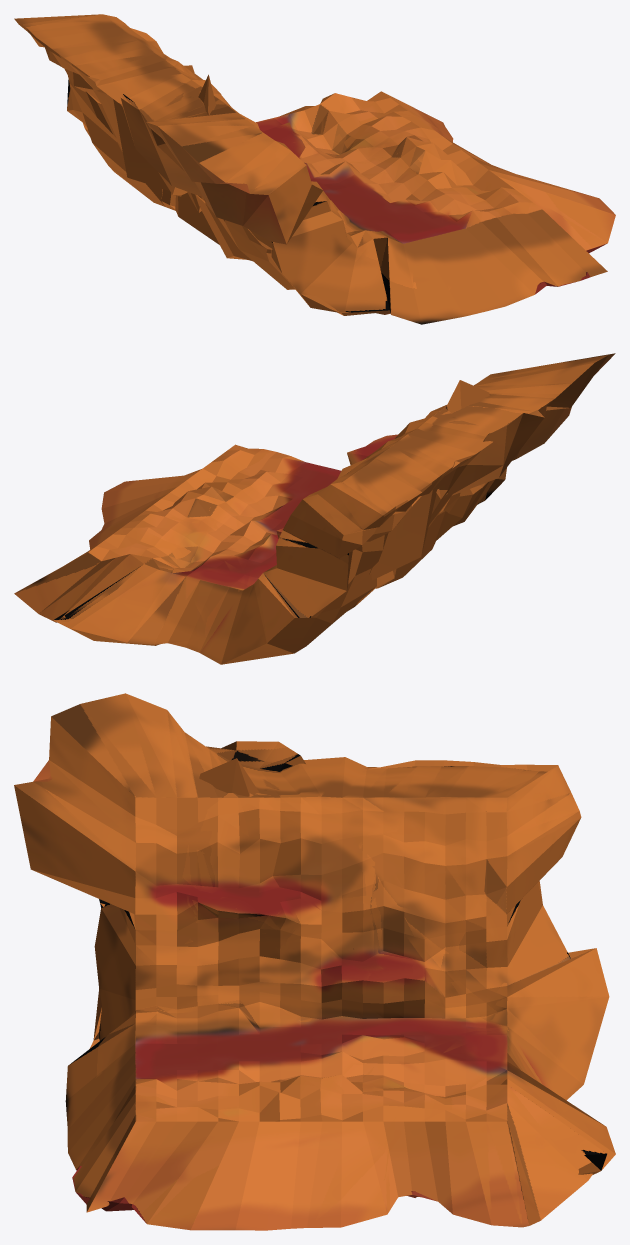
Rendered from bill_bg_test.fbx.
3 renders of one model, top to bottom at view 1: azimuth 30°, elevation 25°; view 2: azimuth 150°, elevation 25°; view 3: azimuth 270°, elevation 25°, orthographic. The views are drawn at different scales.
Visible parts, largest first — view 1: BG_Obj; view 2: BG_Obj; view 3: BG_Obj.
Boxes of the visible parts, x1,y1,x2,y2 form: BG_Obj: (14,14,615,324); BG_Obj: (14,353,615,664); BG_Obj: (14,693,615,1230).
Bounding box in the file's own units: 1053 × 545 × 972.
Materials: 1 (1 with a texture image).
